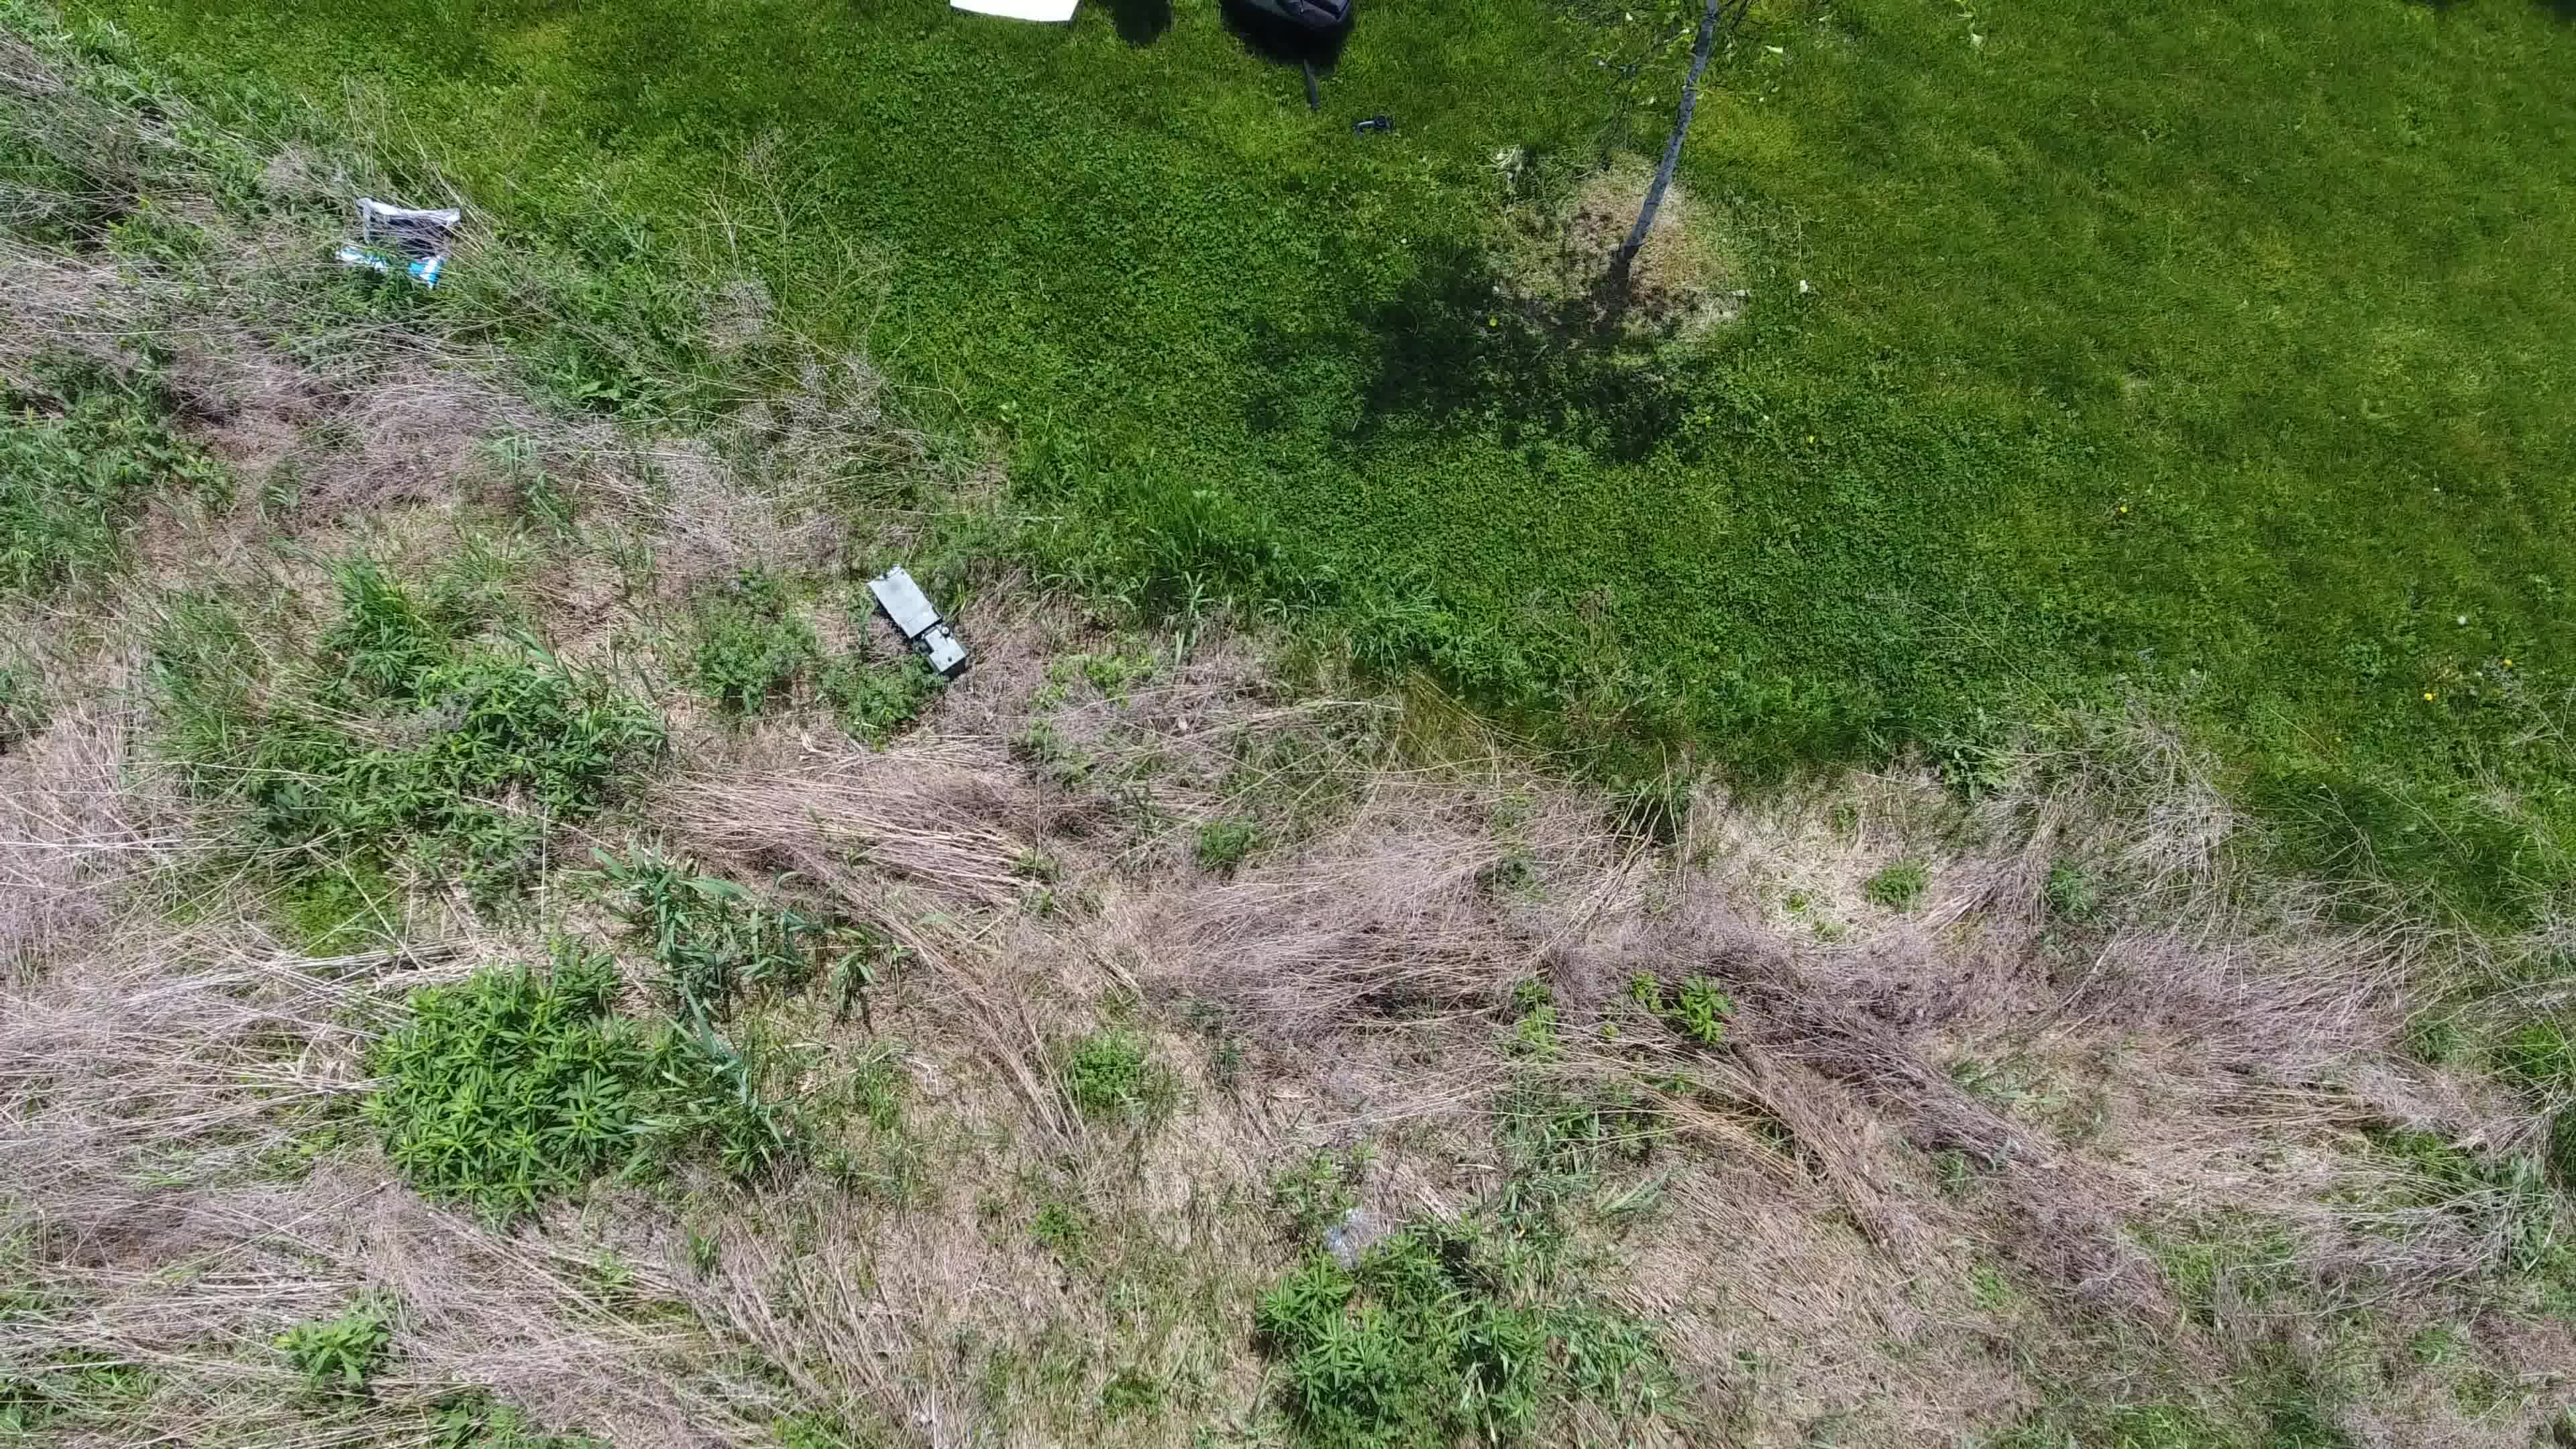transporter9: (863, 561, 970, 681)
